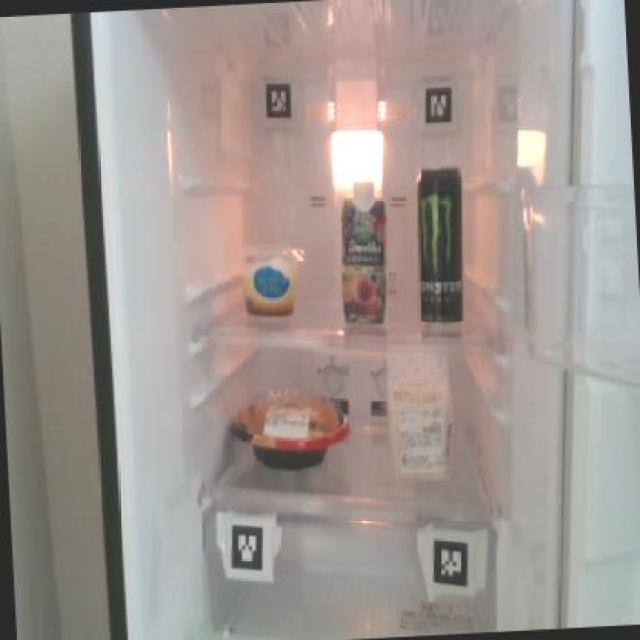bento: (223, 391, 354, 477)
energy_drink: (409, 162, 468, 327)
pudding: (238, 241, 308, 319)
sandwich: (382, 340, 458, 485)
smoothie: (331, 174, 391, 326)
